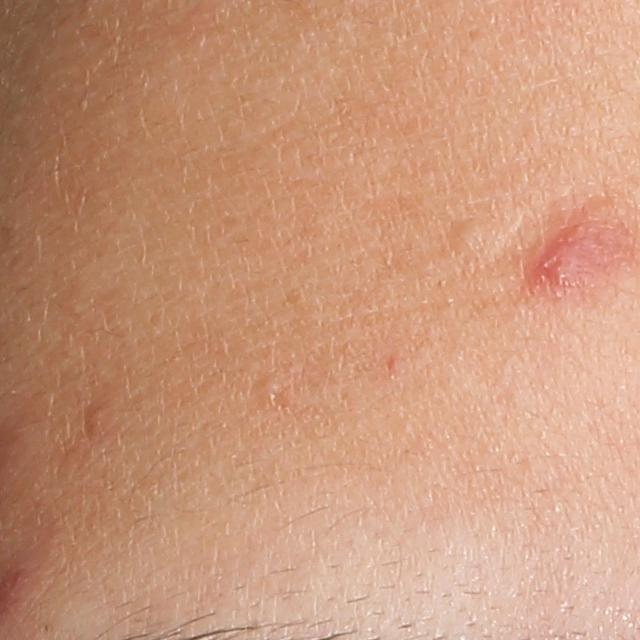papule: (520, 213, 636, 302)
